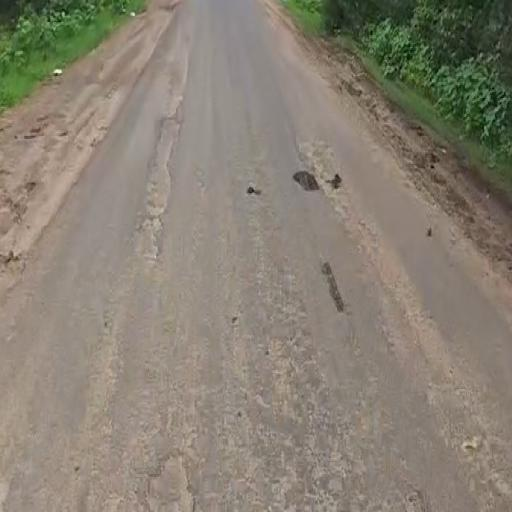ravelling: (121, 48, 215, 308), (117, 405, 213, 512)
